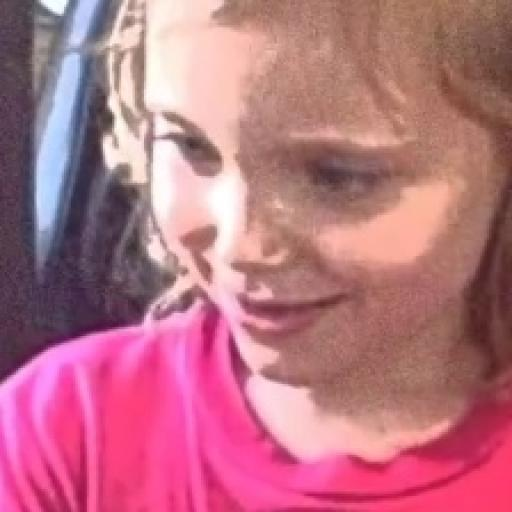Autism: (64, 14, 512, 467)
